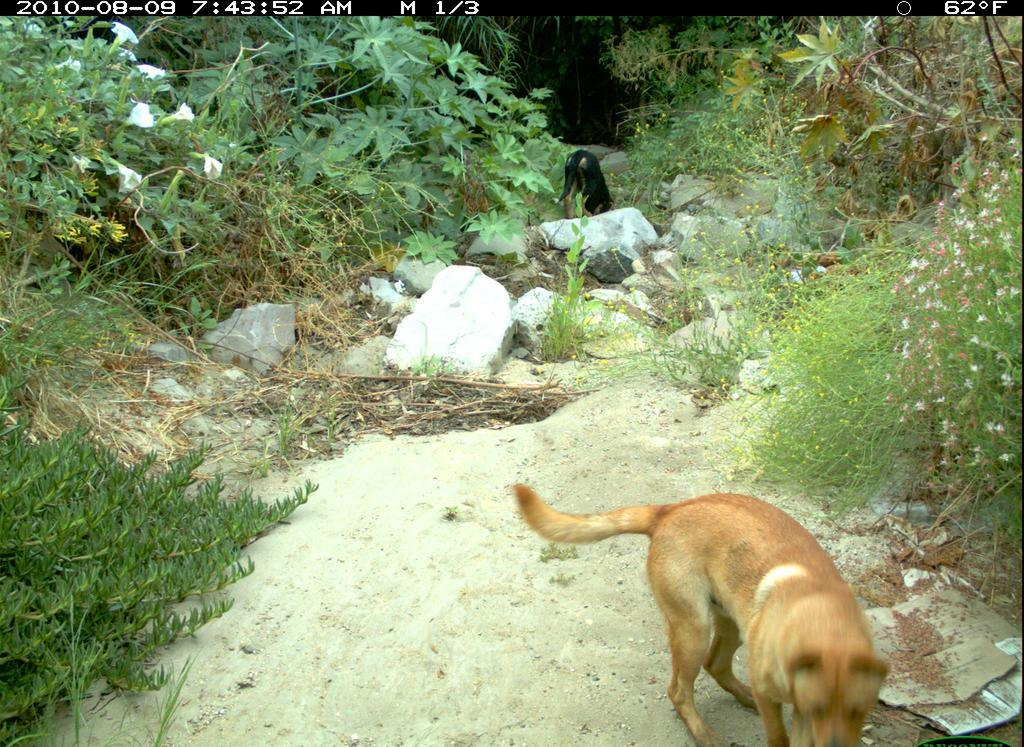dog: (505, 477, 895, 747)
